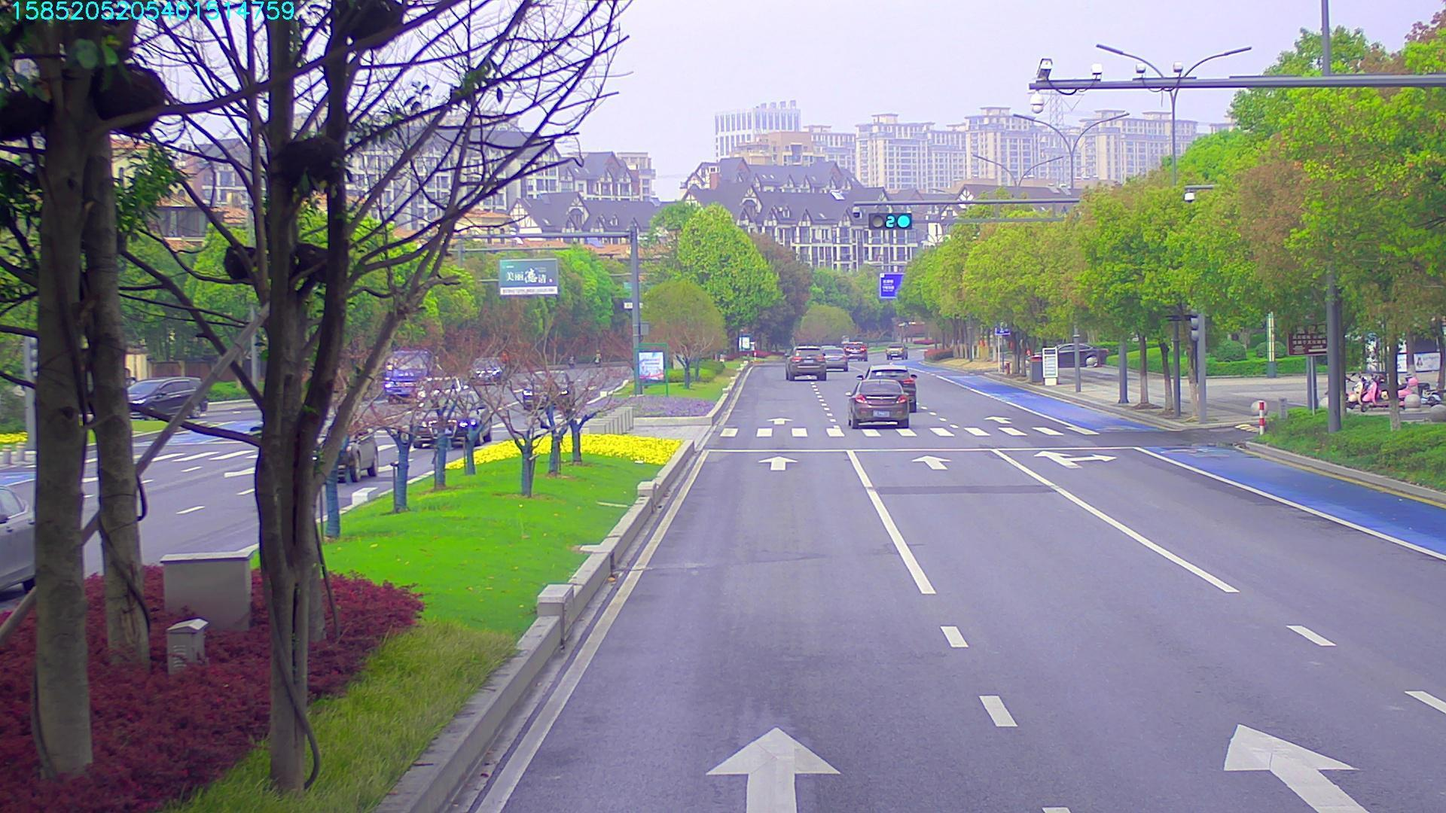green: (868, 215, 917, 226)
